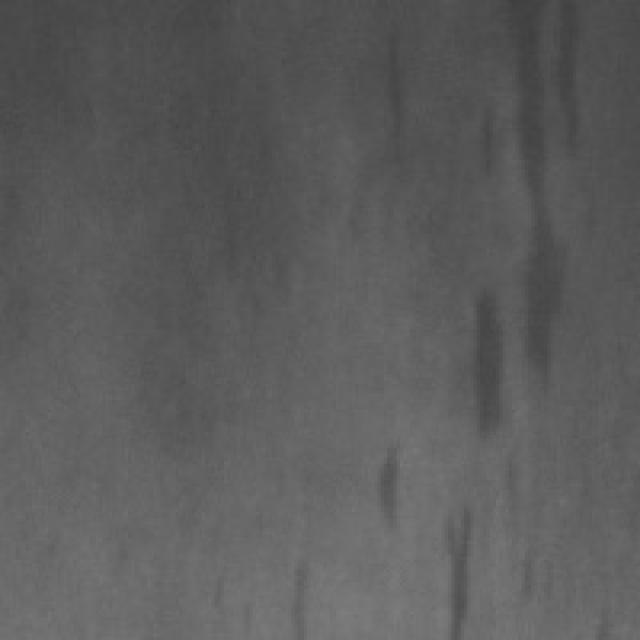inclusion: (502, 0, 586, 419), (438, 266, 516, 451), (352, 16, 426, 150), (422, 489, 483, 634), (362, 432, 419, 534), (269, 541, 320, 637)
